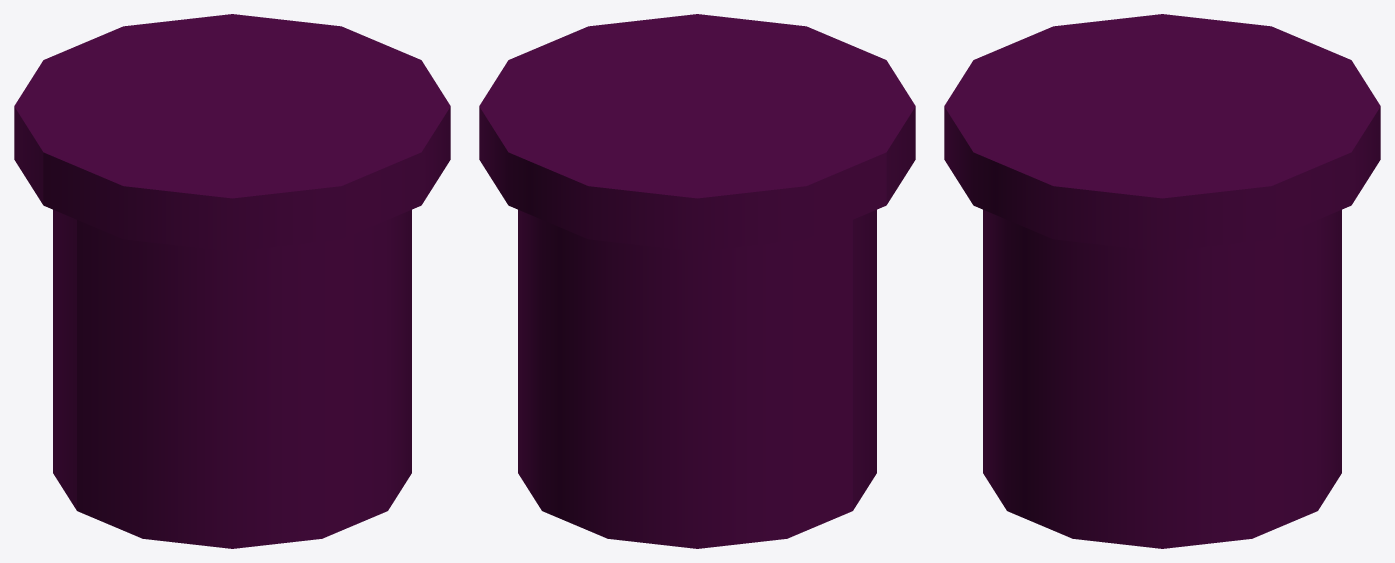
File: Workshop_Cont3.fbx
The picture shows the model from 3 angles, left to right: view 1: azimuth 30°, elevation 25°; view 2: azimuth 150°, elevation 25°; view 3: azimuth 270°, elevation 25°; orthographic projection.
Visible parts, largest first — view 1: Workshop_Cont3; view 2: Workshop_Cont3; view 3: Workshop_Cont3.
Part boxes in pixels (x1=…): Workshop_Cont3: x1=14, y1=14, x2=450, y2=548; Workshop_Cont3: x1=479, y1=14, x2=915, y2=548; Workshop_Cont3: x1=944, y1=14, x2=1380, y2=548.
Bounding box in the file's own units: 25.73 × 23.86 × 25.73.
